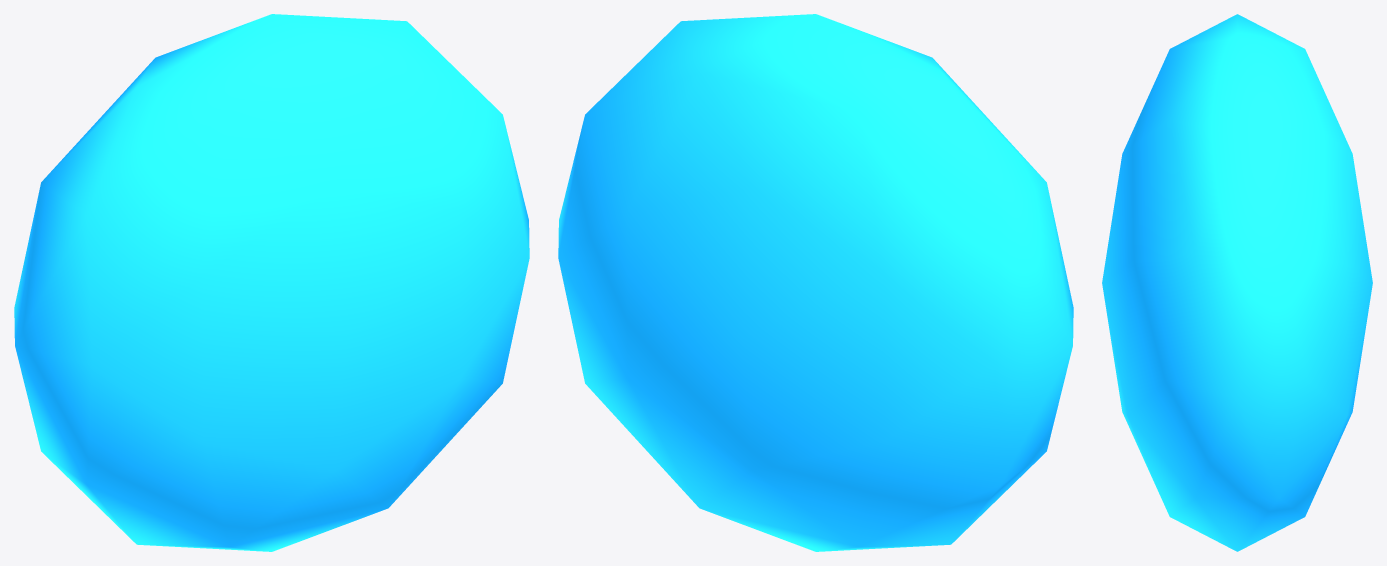
The model's file is powerup_shield.glb.
3 views of the same model, side by side, from view 1: azimuth 30°, elevation 25°; view 2: azimuth 150°, elevation 25°; view 3: azimuth 270°, elevation 25° (orthographic). The views are drawn at different scales.
Parts seen in each view (by area): view 1: powerup_shield; view 2: powerup_shield; view 3: powerup_shield.
Boxes of the visible parts, box(x1,y1,x2,y2) form: powerup_shield: box(14, 14, 529, 551); powerup_shield: box(558, 14, 1073, 551); powerup_shield: box(1102, 14, 1372, 551).
Size of the model in its own units: 0.8 by 0.8 by 0.4.
